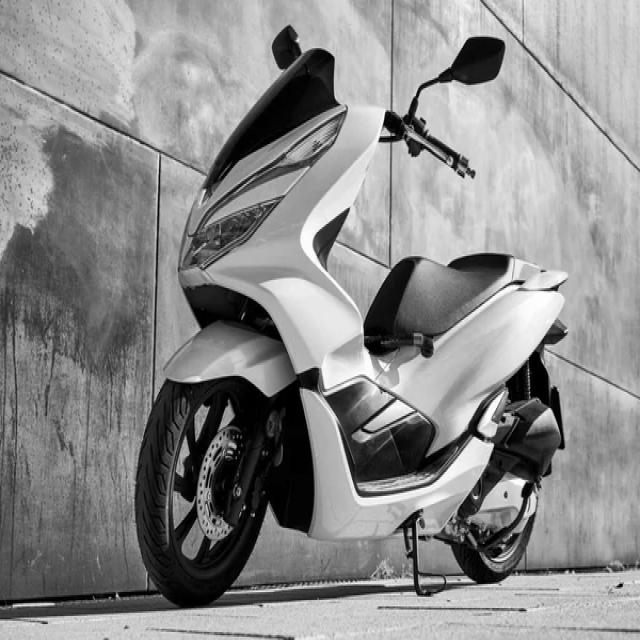Motorcycle: (136, 30, 568, 608)
